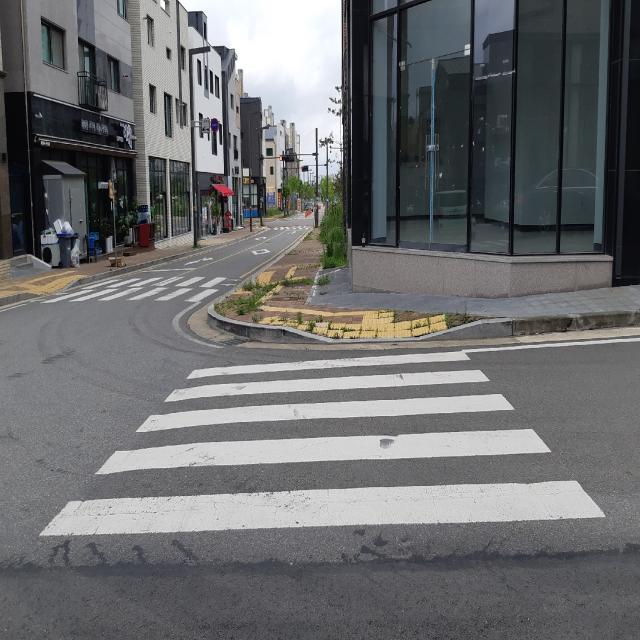횡단보도: (38, 346, 607, 540), (34, 254, 240, 320)
